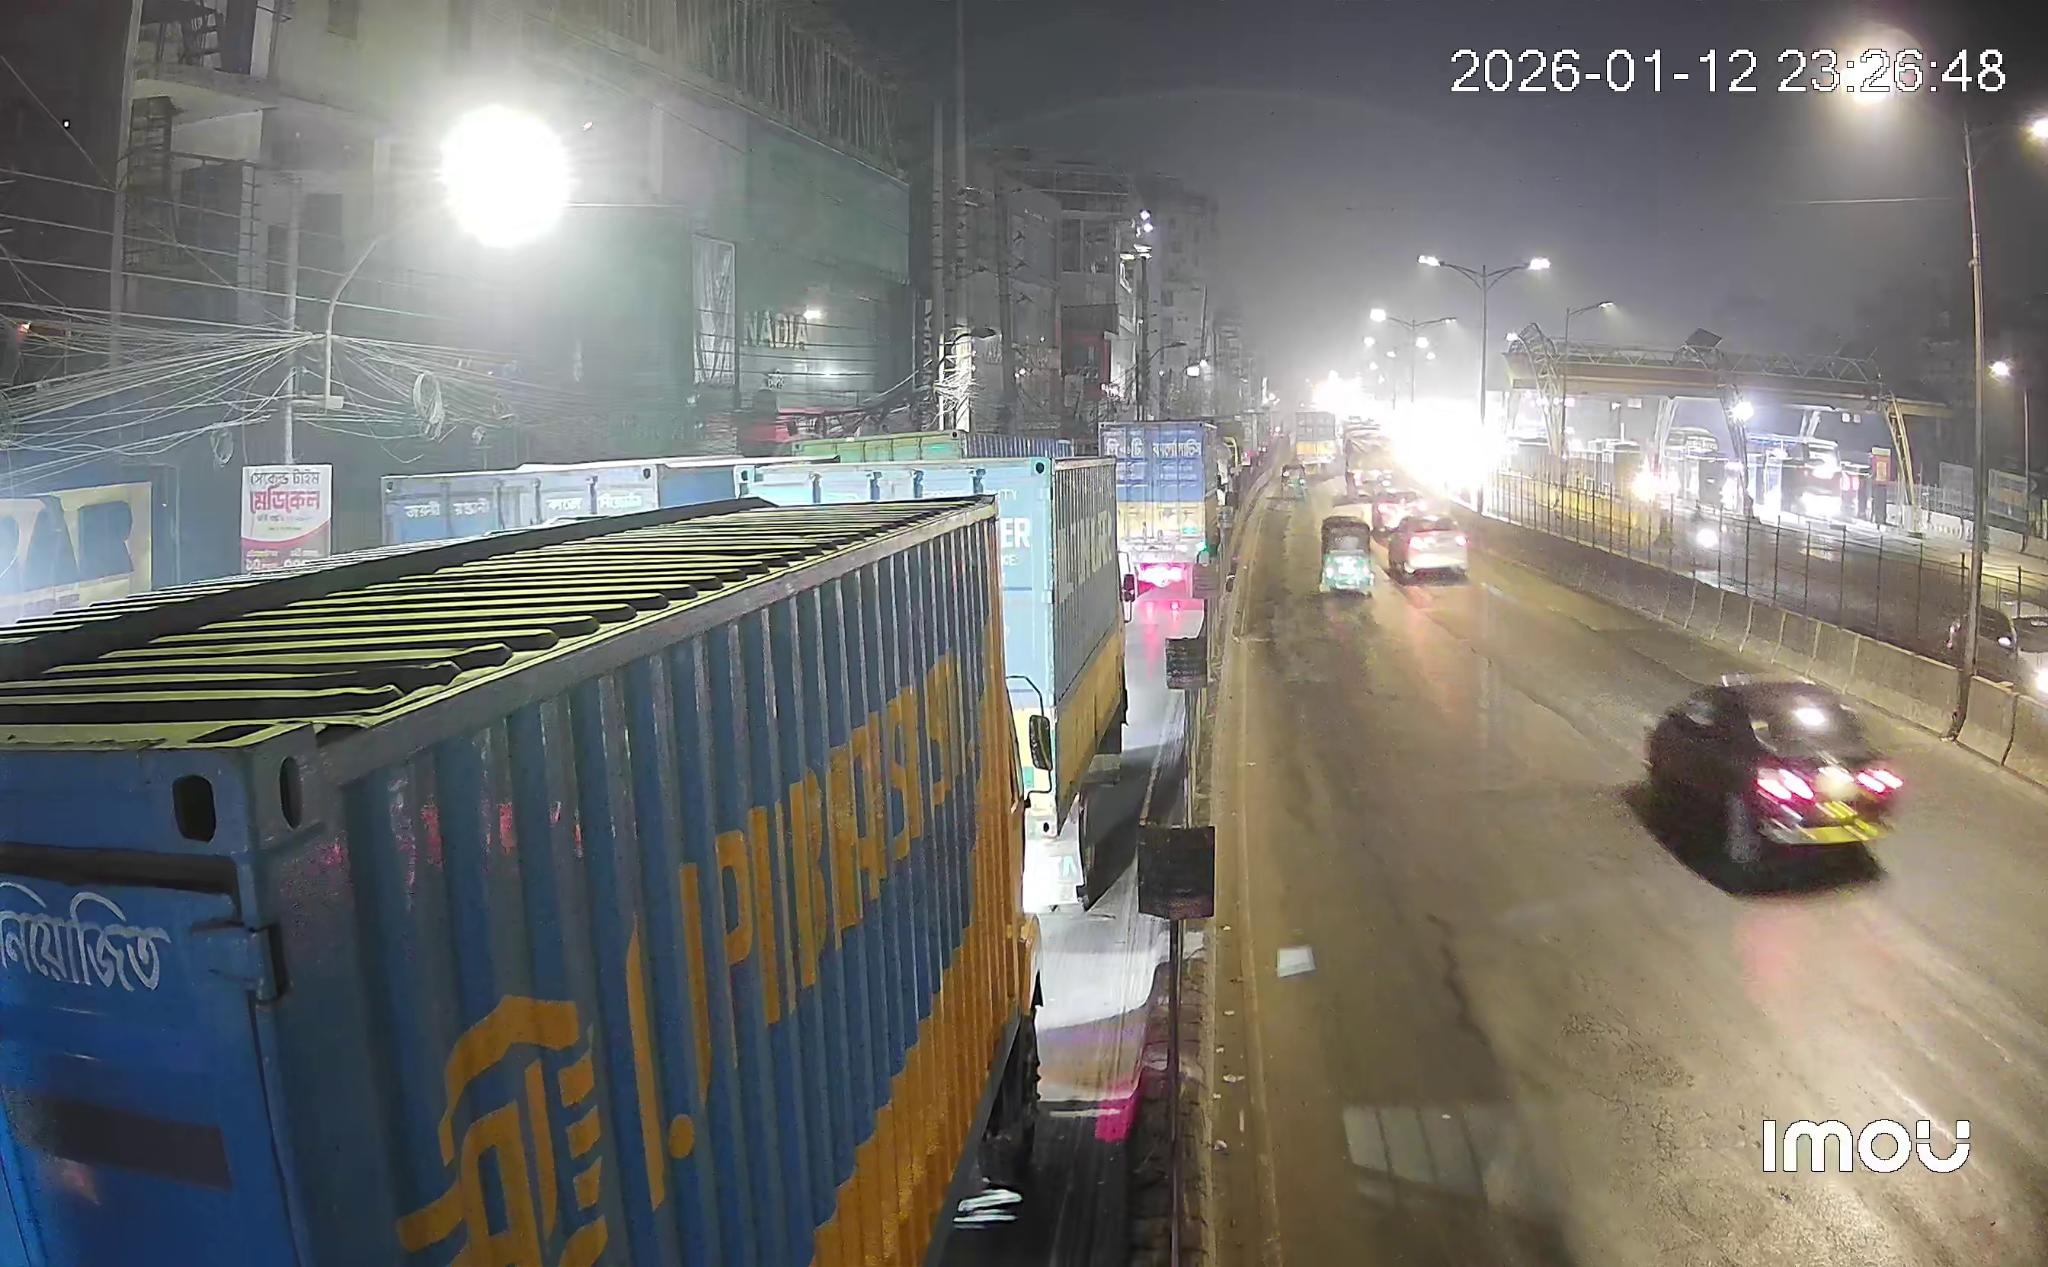CNG-Tempo: (1319, 516, 1375, 597)
Private-Sedan Car: (1646, 677, 1905, 868), (1973, 600, 2047, 699), (1387, 509, 1469, 578), (1947, 616, 1966, 660)
Truck: (0, 495, 1042, 1267), (740, 456, 1129, 911), (1099, 421, 1221, 597)
